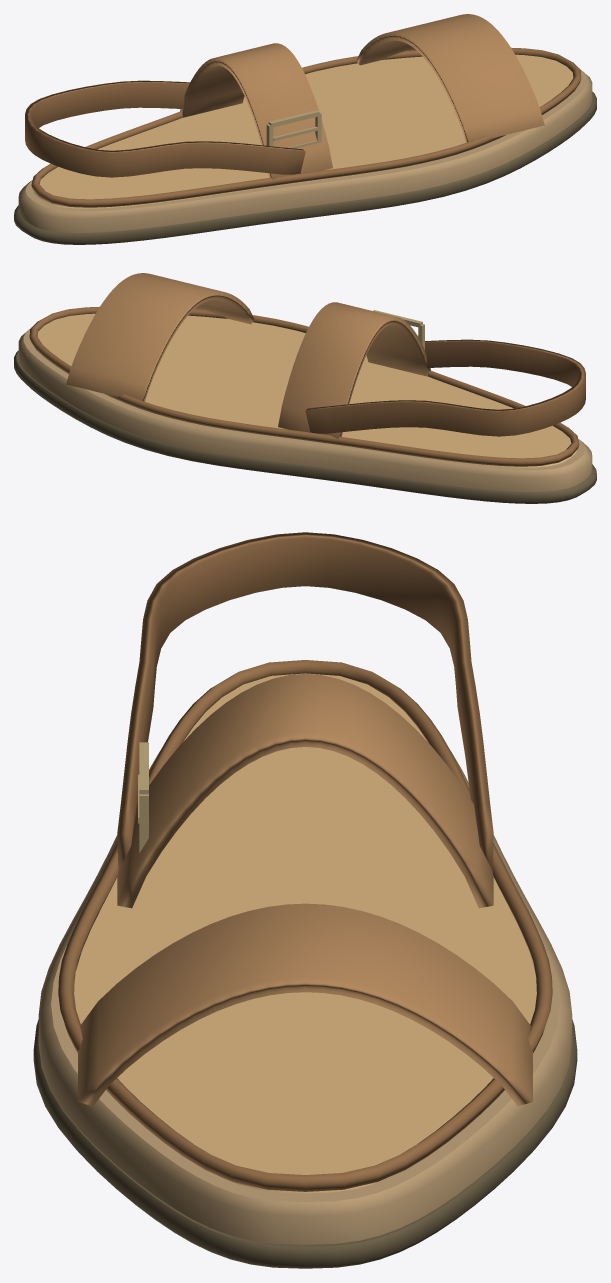
File: sandal.glb
3 views of the same model, one above another, from view 1: azimuth 30°, elevation 25°; view 2: azimuth 150°, elevation 25°; view 3: azimuth 270°, elevation 25° (orthographic). The views are drawn at different scales.
Parts seen in each view (by area): view 1: visible-insole-footbed, layered-midsole, heel-retaining-strap, wide-forefoot-strap, instep-strap, rubber-outsole, raised-footbed-edge, sandal-buckle-top; view 2: visible-insole-footbed, layered-midsole, heel-retaining-strap, wide-forefoot-strap, instep-strap, rubber-outsole, raised-footbed-edge; view 3: visible-insole-footbed, wide-forefoot-strap, layered-midsole, instep-strap, heel-retaining-strap, raised-footbed-edge, rubber-outsole.
Boxes of the visible parts, x1,y1,x2,y2 form: visible-insole-footbed: (34, 54, 573, 208); layered-midsole: (18, 68, 592, 232); heel-retaining-strap: (25, 80, 305, 177); wide-forefoot-strap: (356, 14, 544, 142); instep-strap: (180, 43, 332, 179); rubber-outsole: (14, 91, 596, 244); raised-footbed-edge: (31, 47, 581, 207); sandal-buckle-top: (268, 110, 319, 127); visible-insole-footbed: (37, 313, 576, 467); layered-midsole: (18, 327, 592, 491); heel-retaining-strap: (305, 339, 585, 436); wide-forefoot-strap: (66, 273, 254, 401); instep-strap: (278, 302, 430, 438); rubber-outsole: (14, 350, 596, 503); raised-footbed-edge: (29, 306, 579, 466); visible-insole-footbed: (74, 673, 536, 1193); wide-forefoot-strap: (78, 903, 532, 1106); layered-midsole: (38, 752, 572, 1244); instep-strap: (117, 674, 493, 908); heel-retaining-strap: (117, 532, 493, 870); raised-footbed-edge: (58, 660, 552, 1191); rubber-outsole: (33, 1019, 577, 1268).
Size of the model in its own units: 0.253 by 0.055 by 0.1053.
